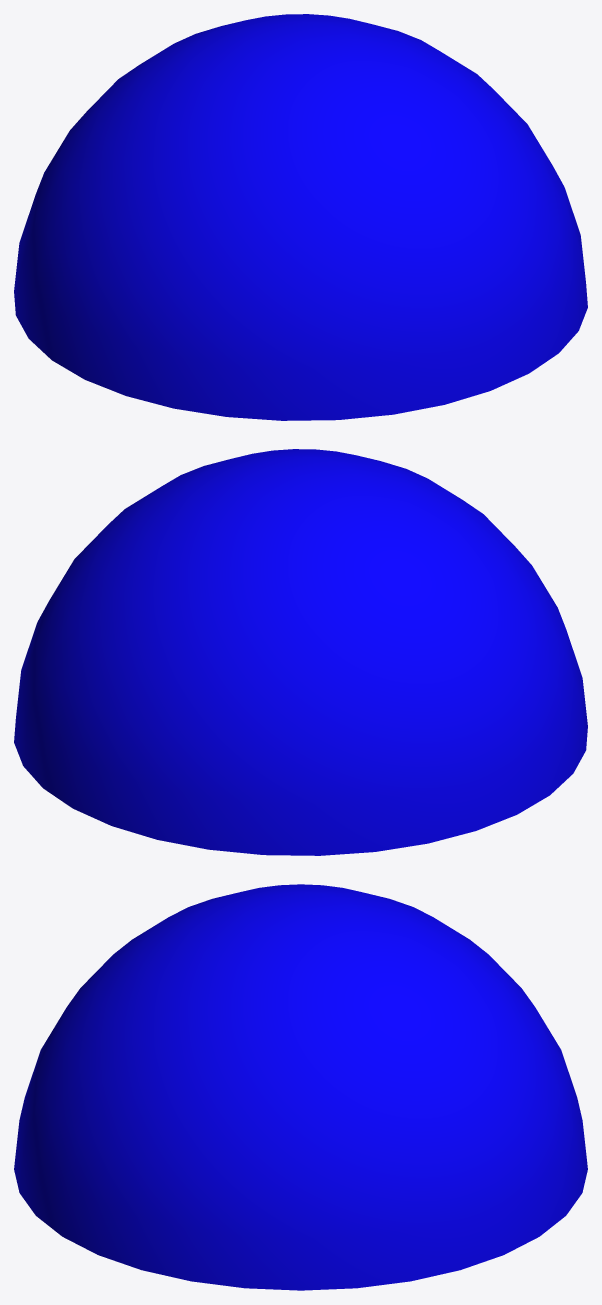
The model's file is ForceFieldSphere.FBX.
The picture shows the model from 3 angles, top to bottom: view 1: azimuth 30°, elevation 25°; view 2: azimuth 150°, elevation 25°; view 3: azimuth 270°, elevation 25°; orthographic projection.
Visible parts, largest first — view 1: Field; view 2: Field; view 3: Field.
Boxes of the visible parts, x1=… form: Field: x1=14, y1=14, x2=587, y2=420; Field: x1=14, y1=449, x2=587, y2=855; Field: x1=14, y1=884, x2=587, y2=1290.
Bounding box in the file's own units: 21.53 × 10.77 × 21.53.
